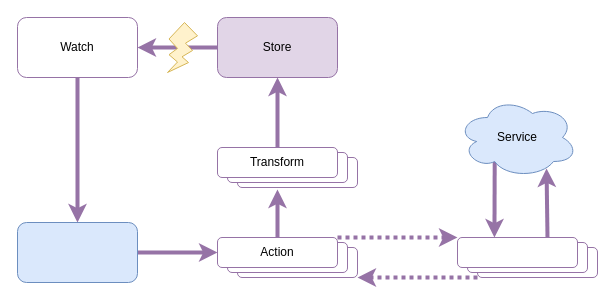
This 615x305 diagram has some shape labels left out. The shapes that lost their labels are listed below. From the top down, each one's centre as x and y in pixels, then its label:
(x=77, y=252): Component
(x=517, y=252): Async
